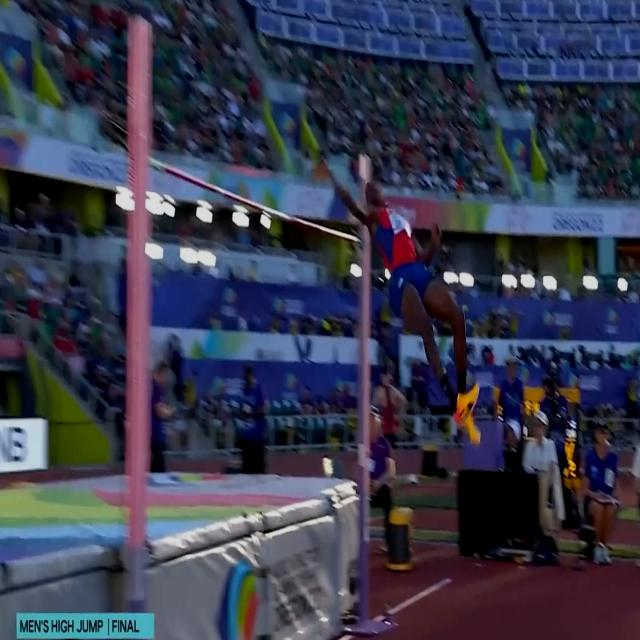jump: (320, 156, 480, 446)
